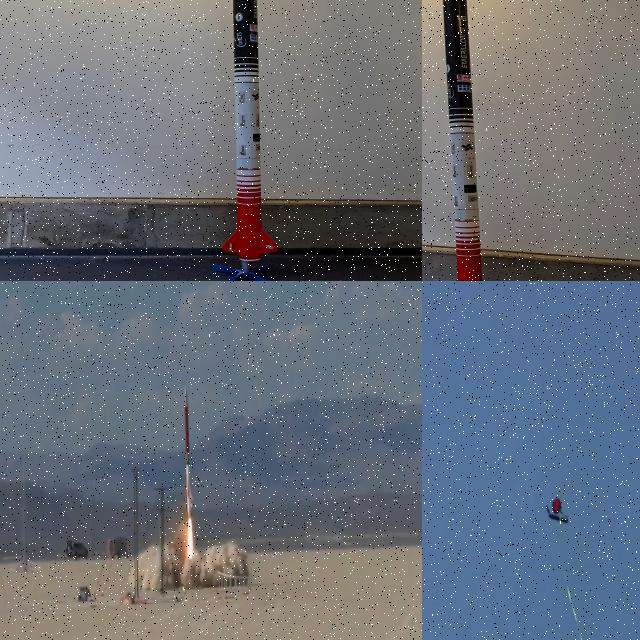Rocket: (222, 0, 278, 261), (443, 0, 483, 281), (183, 386, 193, 526)
